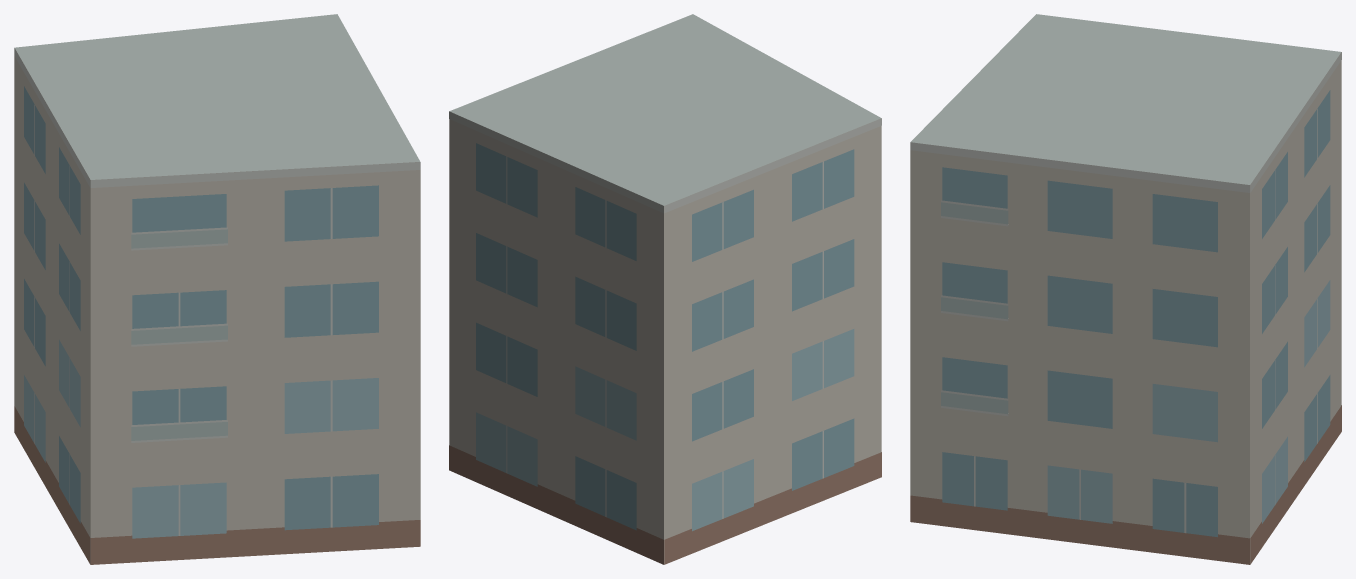
The model's file is survey-upis-32539113.glb.
3 renders of one model, left to right at view 1: azimuth 30°, elevation 25°; view 2: azimuth 150°, elevation 25°; view 3: azimuth 270°, elevation 25°, orthographic. The views are drawn at different scales.
Parts seen in each view (by area): view 1: survey-upis-32539113.tmp; view 2: survey-upis-32539113.tmp; view 3: survey-upis-32539113.tmp.
Boxes of the visible parts, box(x1,y1,x2,y2) form: survey-upis-32539113.tmp: box(14, 14, 420, 564); survey-upis-32539113.tmp: box(449, 14, 881, 564); survey-upis-32539113.tmp: box(910, 14, 1341, 564).
Bounding box in the file's own units: 11.22 × 11.6 × 11.95.
